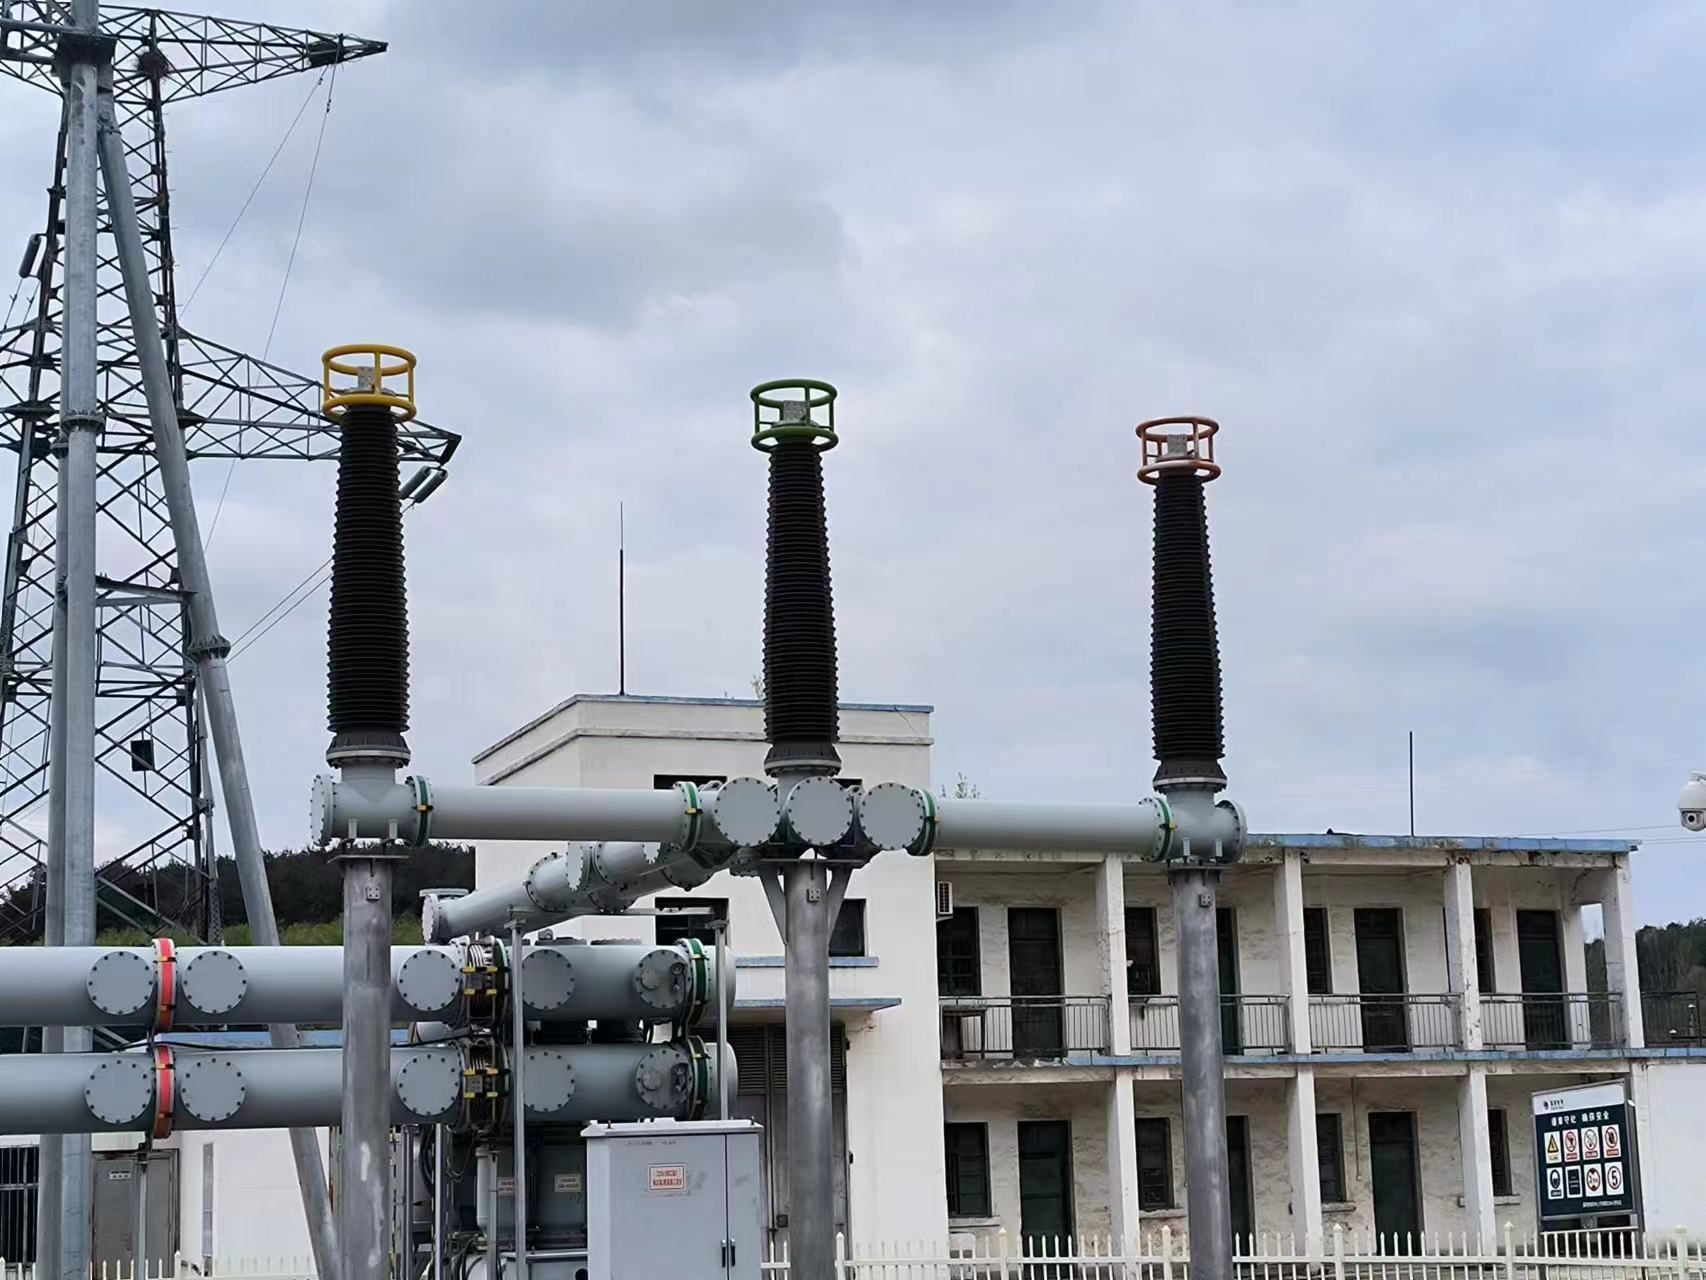Voltage transformer: (319, 343, 421, 766), (747, 375, 850, 783), (1132, 407, 1233, 801)
